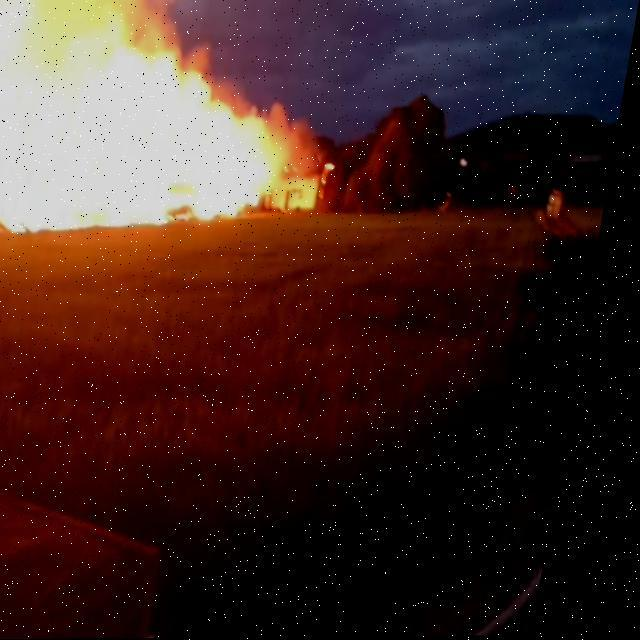Fire: (0, 5, 338, 246)
